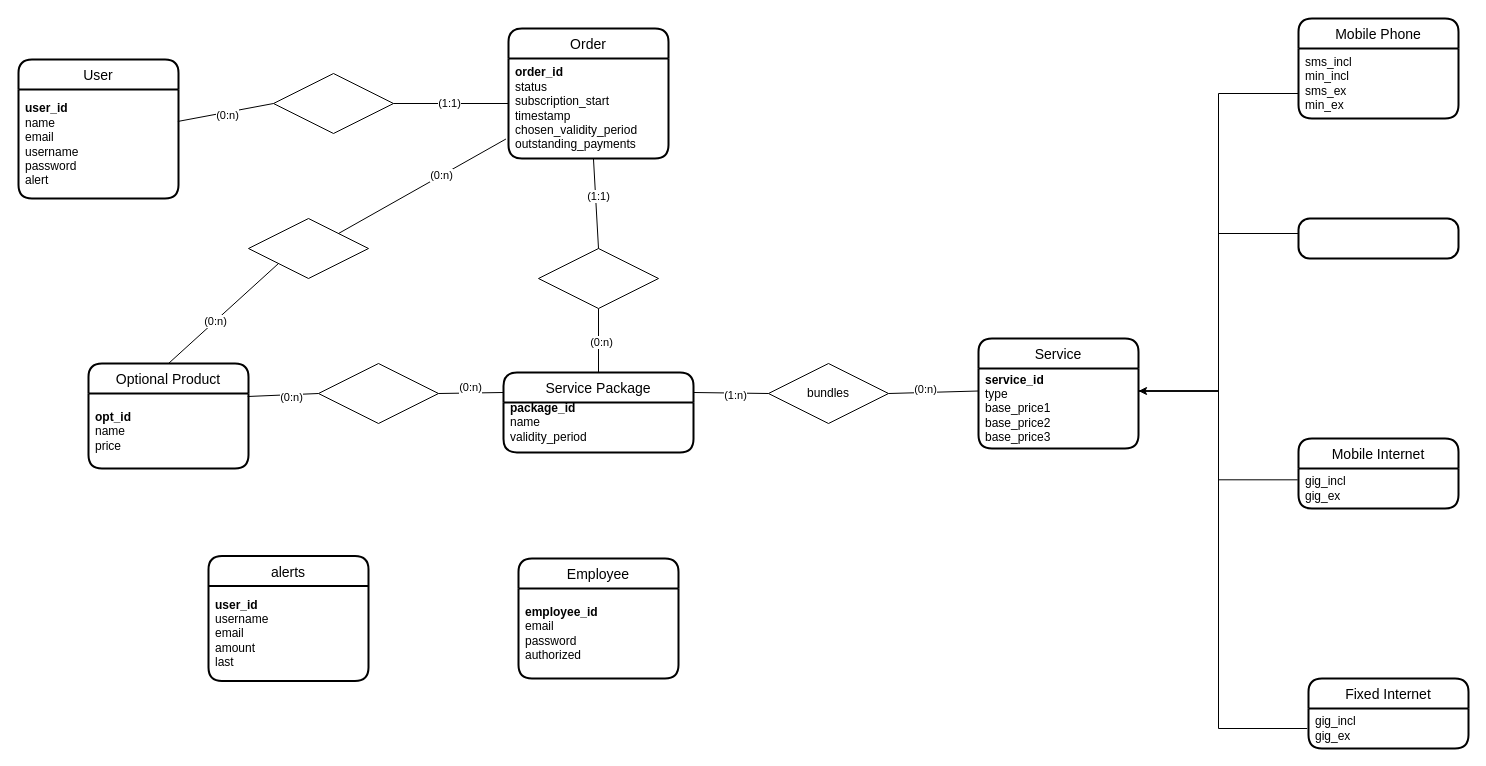
This 1486x766 diagram has some shape labels left out. The shapes that lost their labels are listed below. From the top down, each one's centre as x and y in pixels, then its label:
At (333,103): "places".
At (308,248): "Purchase".
At (1378,238): "Fixed Phone".
At (598,278): "contains".
At (378,393): "available".
